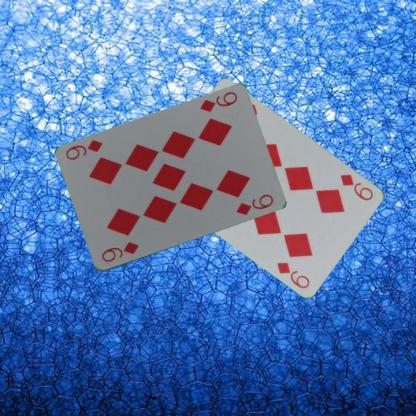9d: (337, 171, 375, 202), (197, 89, 239, 114), (99, 239, 140, 264)
